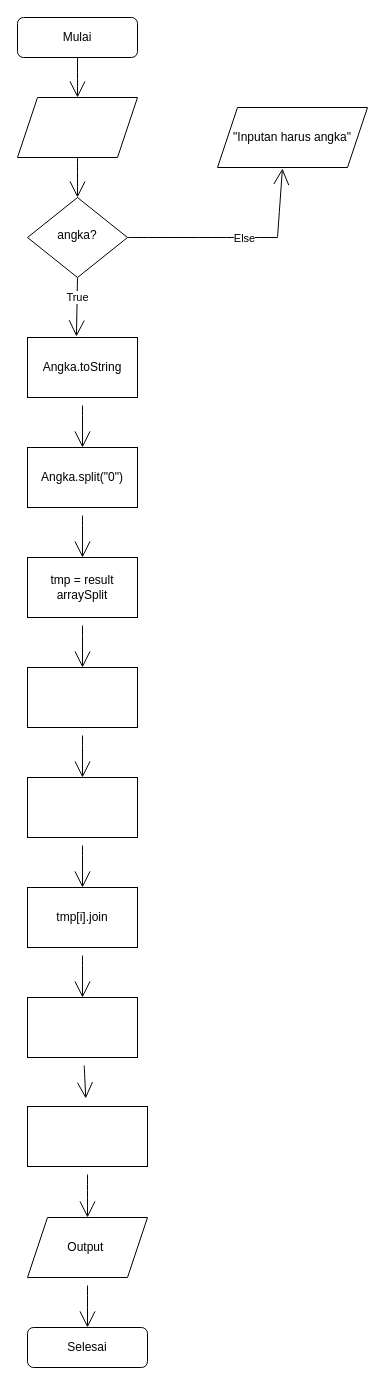
The diagram is 385 pixels wide and 1385 high, and some of its shapes have lost their labels. The centre of each missing label's shape, as x and y in pixels:
Input angka: (77,127)
parseInt(resul.join("")): (87,1136)
result.push(tmp[i]): (82,1027)
tmp[i].sort(): (82,807)
tmp[i].split(""): (82,697)
